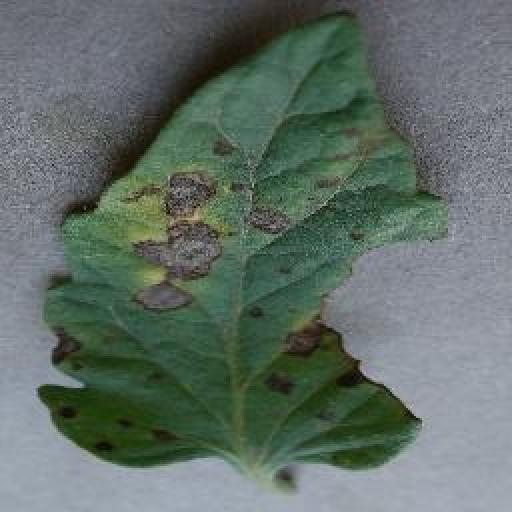Early Blight: (42, 8, 451, 469)
